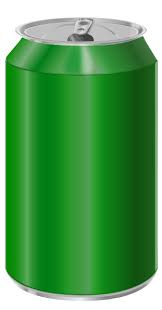can: (1, 12, 160, 303)
